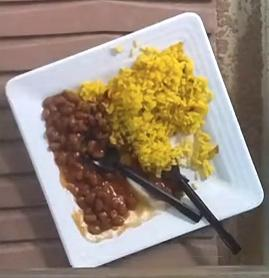beans: (41, 89, 135, 233)
rice: (78, 42, 216, 177)
